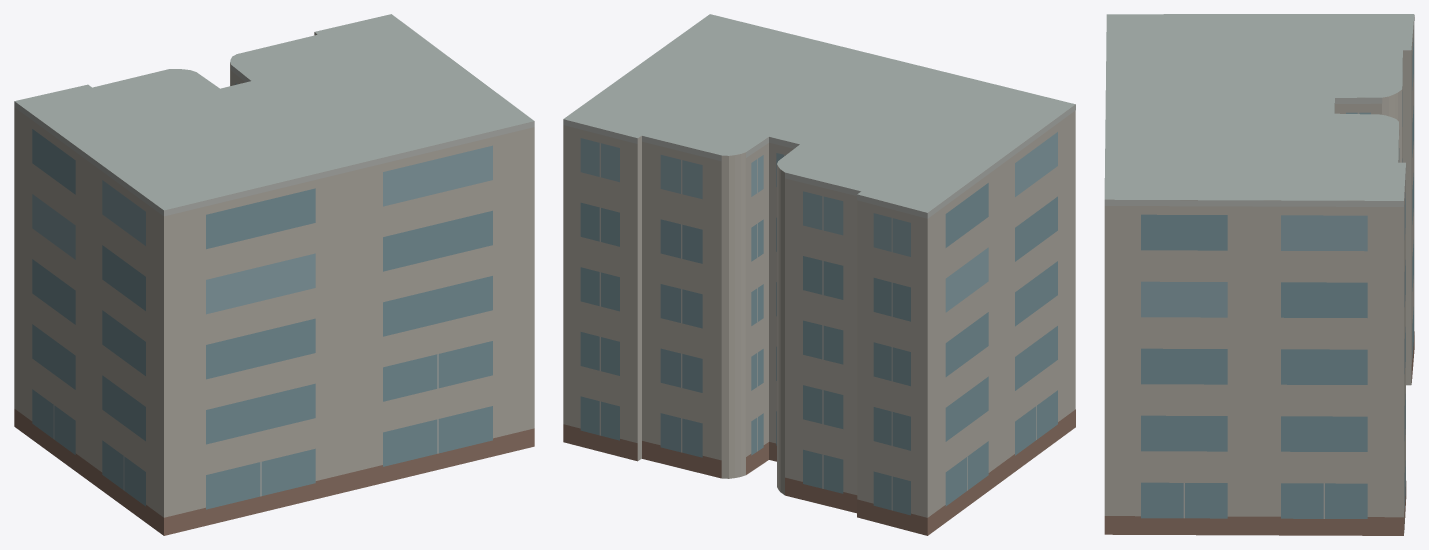
Rendered from survey-upis-32820452.glb.
The picture shows the model from 3 angles, left to right: view 1: azimuth 30°, elevation 25°; view 2: azimuth 150°, elevation 25°; view 3: azimuth 270°, elevation 25°; orthographic projection. The views are drawn at different scales.
Parts seen in each view (by area): view 1: survey-upis-32820452.tmp; view 2: survey-upis-32820452.tmp; view 3: survey-upis-32820452.tmp.
Part boxes in pixels (box(x1,y1,x2,y2)): survey-upis-32820452.tmp: box(14, 14, 534, 535); survey-upis-32820452.tmp: box(563, 14, 1075, 535); survey-upis-32820452.tmp: box(1104, 14, 1414, 535).
Bounding box in the file's own units: 15.93 × 13.3 × 11.16.
